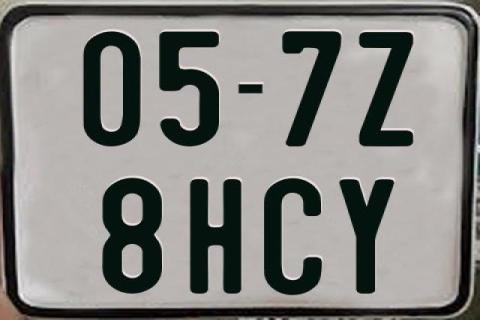0: (159, 29, 224, 149), (81, 30, 142, 148), (279, 29, 340, 147), (101, 176, 161, 294)
C: (261, 177, 320, 293)
H: (189, 177, 246, 293)
Y: (339, 178, 394, 294)
Z: (358, 32, 413, 146)
